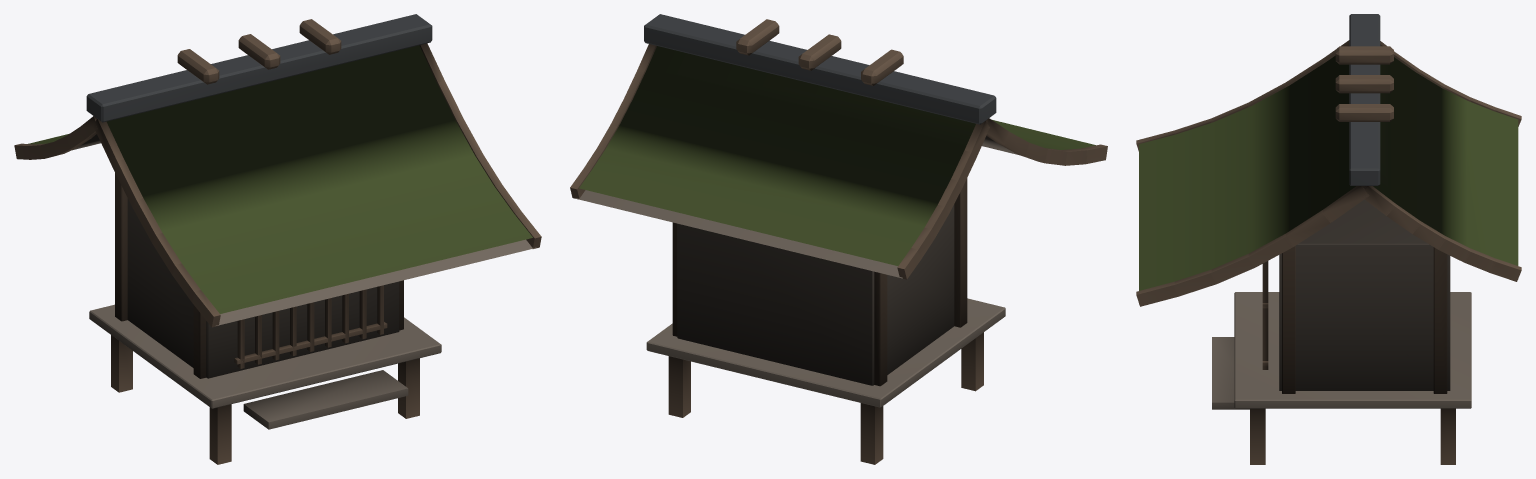
The model's file is bld.shrine.honden.glb.
The picture shows the model from 3 angles, left to right: view 1: azimuth 30°, elevation 25°; view 2: azimuth 150°, elevation 25°; view 3: azimuth 270°, elevation 25°; orthographic projection. The views are drawn at different scales.
Visible parts, largest first — view 1: LOD0; view 2: LOD0; view 3: LOD0.
Boxes of the visible parts, x1=… form: LOD0: x1=14, y1=14, x2=541, y2=464; LOD0: x1=570, y1=14, x2=1107, y2=464; LOD0: x1=1136, y1=14, x2=1521, y2=464.
Size of what is drawn, in the model's own units: 1.9 by 1.93 by 1.98.
